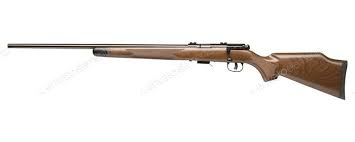gun: (4, 37, 349, 101)
